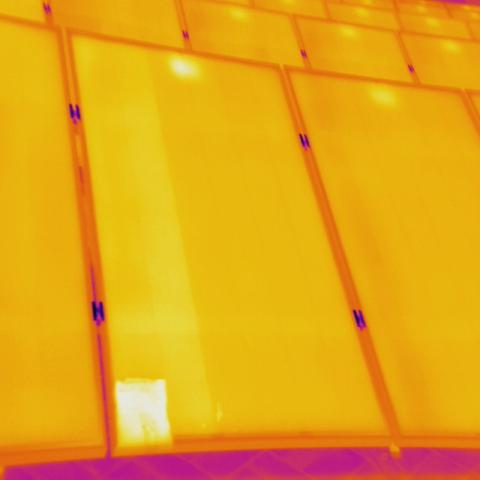fault: (117, 377, 170, 447), (168, 52, 198, 82)
